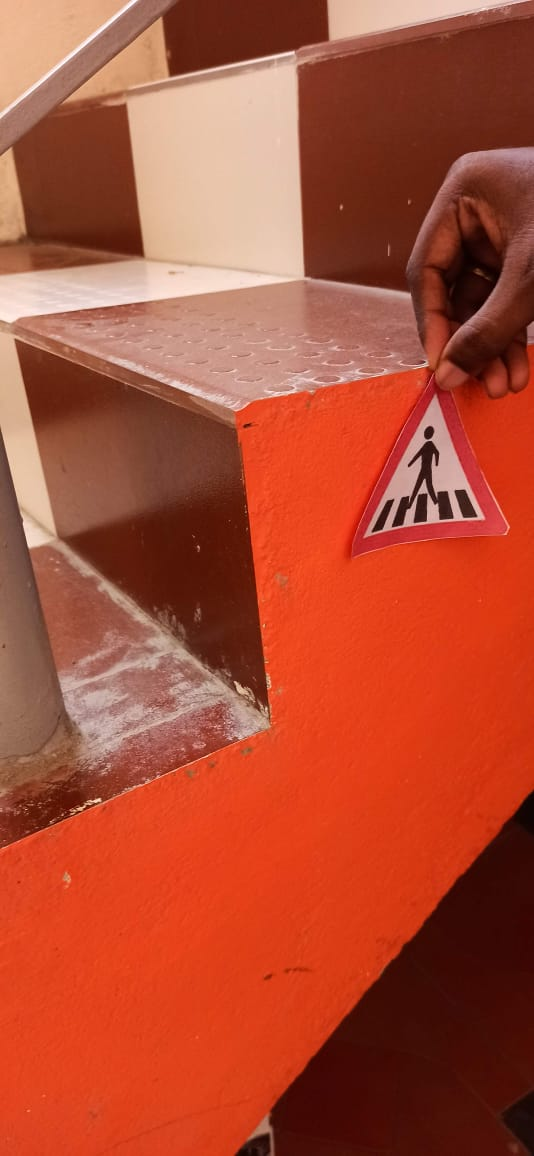PEDESTRIAN CROSSING: (347, 358, 522, 559)
